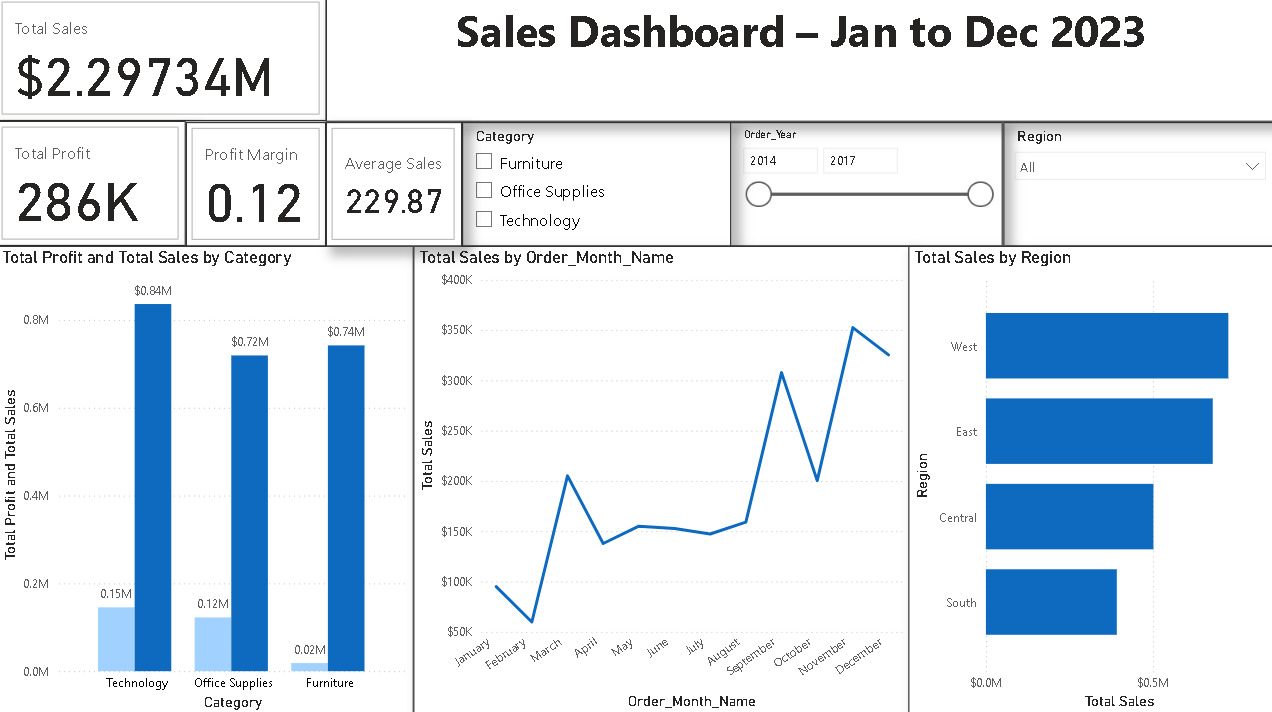

Layout of this report page (visuals, bound fields, positions):
{"tool":"powerbi","page":{"name":"Page 1","canvas":[1280,720],"ordinal":0},"visuals":[{"type":"cardVisual","fields":{"Data":["superstore csv.Total Sales"]},"box":[0,0,330.2,125.1],"z":0},{"type":"cardVisual","fields":{"Data":["superstore csv.Total Profit"]},"box":[0,125.1,190,125.1],"z":1000},{"type":"cardVisual","fields":{"Data":["superstore csv.Profit Margin"]},"box":[190,125.7,140,124.3],"z":2000},{"type":"slicer","fields":{"Values":["superstore csv.Region"]},"box":[1007.1,125.7,272.9,124.3],"z":2001},{"type":"slicer","fields":{"Values":["superstore csv.Order_Year"]},"box":[734.3,125.7,272.9,124.3],"z":2002},{"type":"slicer","fields":{"Values":["superstore csv.Category"]},"box":[465.7,125.7,268.6,124.3],"z":2003},{"type":"clusteredColumnChart","fields":{"Category":["superstore csv.Category"],"Y":["superstore csv.Total Profit","superstore csv.Total Sales"]},"box":[0,250.3,417.6,470.4],"z":2004},{"type":"lineChart","fields":{"Category":["superstore csv.Order_Month_Name"],"Y":["superstore csv.Total Sales"]},"box":[417.1,250,495.7,470],"z":2005},{"type":"barChart","fields":{"Category":["superstore csv.Region"],"Y":["superstore csv.Total Sales"]},"box":[912.9,250,367.1,470],"z":2006},{"type":"textbox","box":[330,0,950,125.7],"z":2007},{"type":"cardVisual","fields":{"Data":["superstore csv.Average Sales"]},"box":[330,125.7,135.7,124.3],"z":2008}]}

Visuals, with their boxes in screenshot pixels (x1, y1, x2, y2), scaled from the page's 1280x720 canvas onto the 1272x712 screenshot:
cardVisual - superstore csv.Total Sales: 0:0:328:124
cardVisual - superstore csv.Total Profit: 0:124:189:247
cardVisual - superstore csv.Profit Margin: 189:124:328:247
slicer - superstore csv.Region: 1001:124:1271:247
slicer - superstore csv.Order_Year: 730:124:1001:247
slicer - superstore csv.Category: 463:124:730:247
clusteredColumnChart - superstore csv.Category x superstore csv.Total Profit: 0:248:415:711
lineChart - superstore csv.Order_Month_Name x superstore csv.Total Sales: 414:247:907:711
barChart - superstore csv.Region x superstore csv.Total Sales: 907:247:1271:711
textbox: 328:0:1271:124
cardVisual - superstore csv.Average Sales: 328:124:463:247
